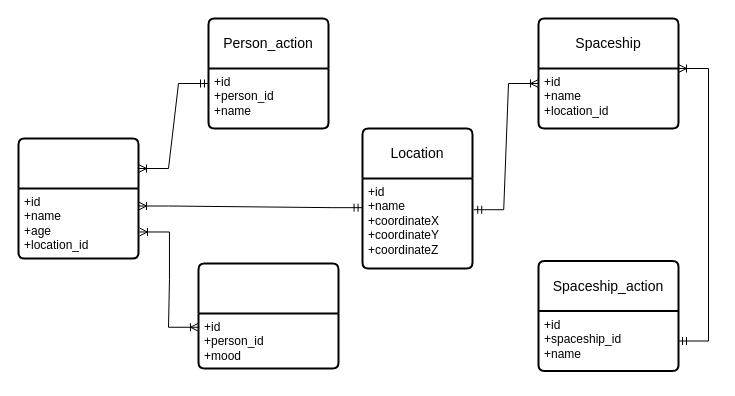
The diagram is 735 pixels wide and 396 high, and some of its shapes have lost their labels. Here are the shapes that lost their labels. From the top down, the box of each, then its label:
(17, 137, 139, 259): Person
(197, 262, 339, 369): Person_condition
